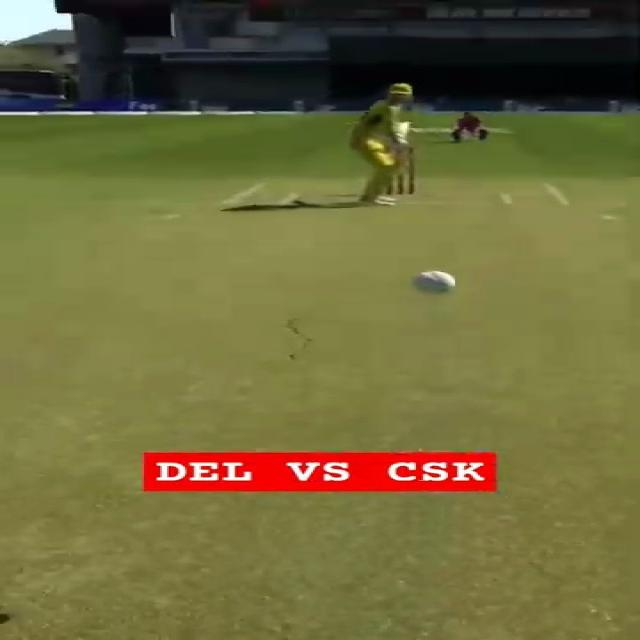ball: (405, 265, 457, 301)
